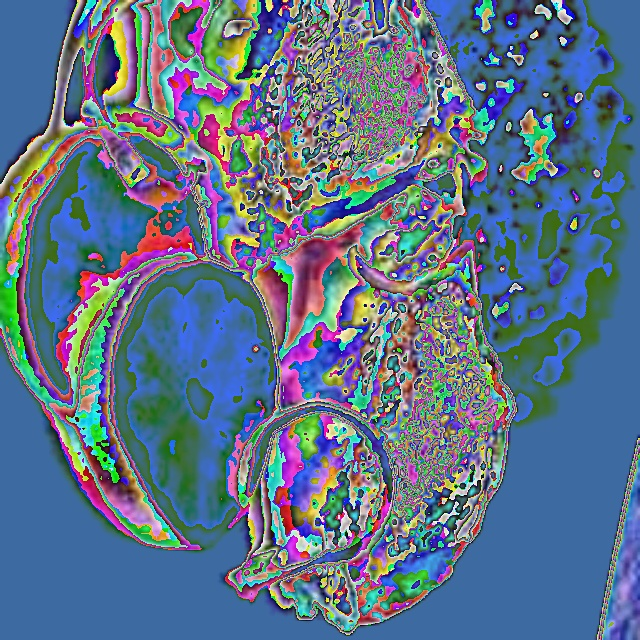background: (0, 0, 640, 635)
